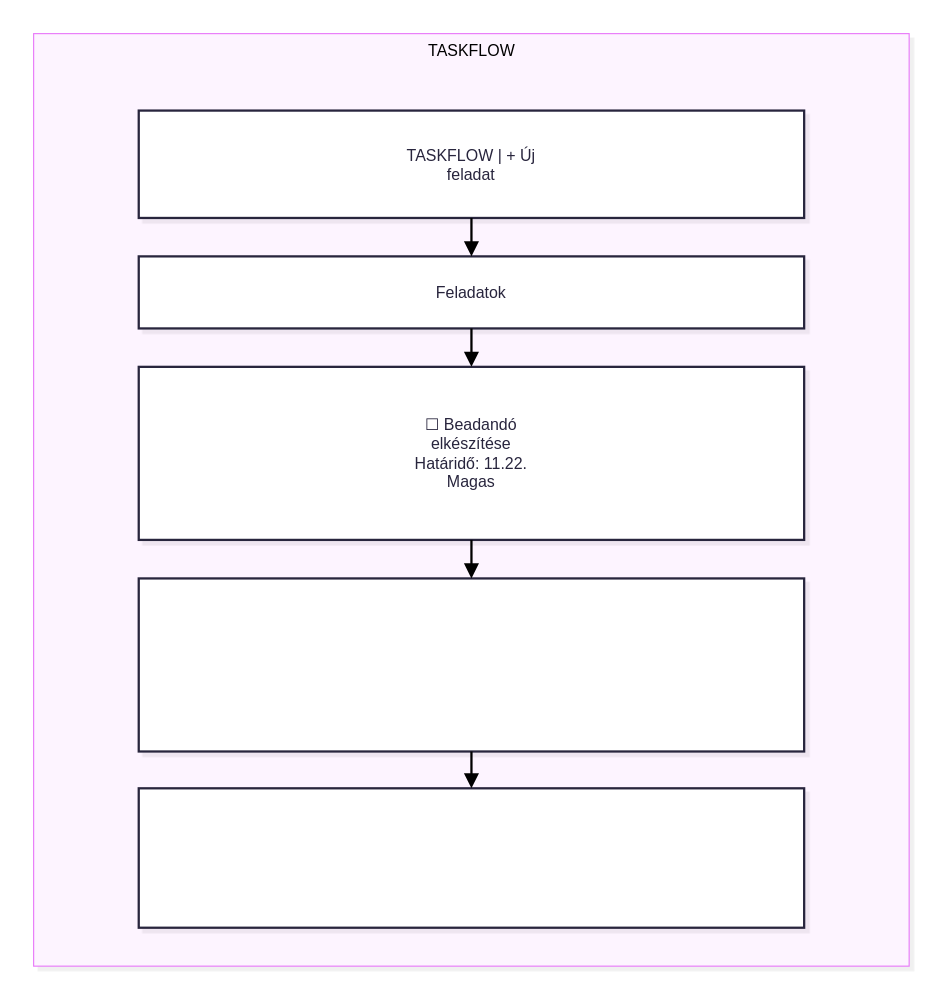
Some shapes in this 934 by 991 pixel diagram are drawn without their labels. The centre of each missing label's shape, as x and y in pixels:
"☐ Dokumentáció Határidő: 11.25. Alacsony" goes at (x=473, y=860).
"☑ Jegyzet elkészítése Határidő: 11.20. Közepes" goes at (x=473, y=667).
